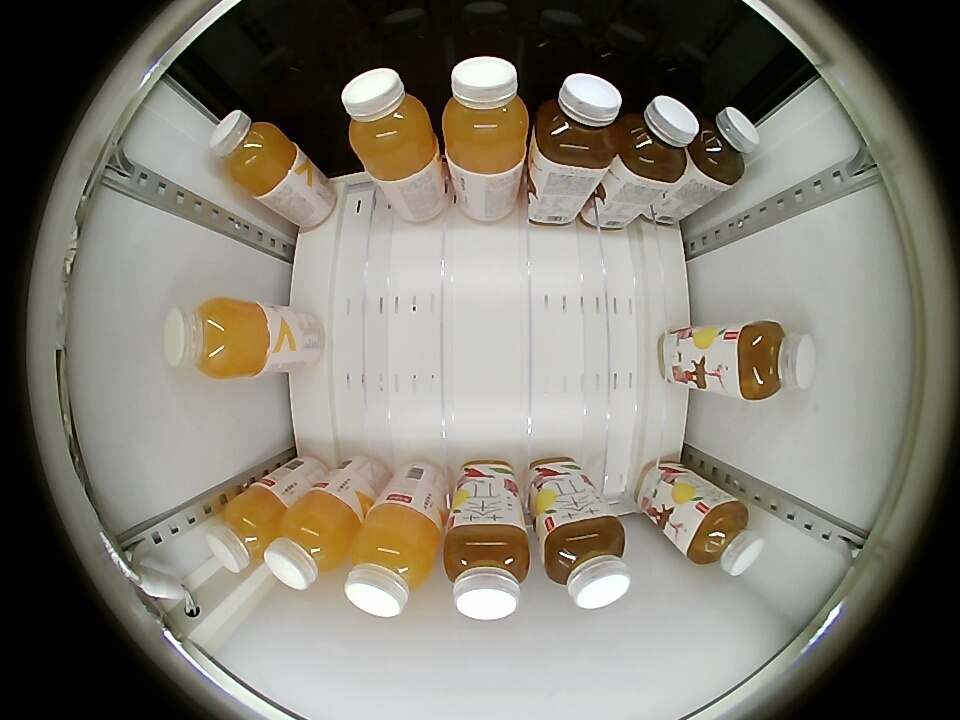chapai: (532, 73, 622, 171), (540, 514, 630, 610), (443, 521, 530, 620), (614, 95, 698, 184), (731, 321, 817, 401), (683, 496, 764, 576), (690, 107, 760, 187)
weic: (344, 504, 441, 618), (342, 68, 440, 177), (442, 56, 529, 170), (265, 490, 362, 590), (162, 297, 272, 380), (209, 110, 296, 197), (207, 483, 288, 573)
